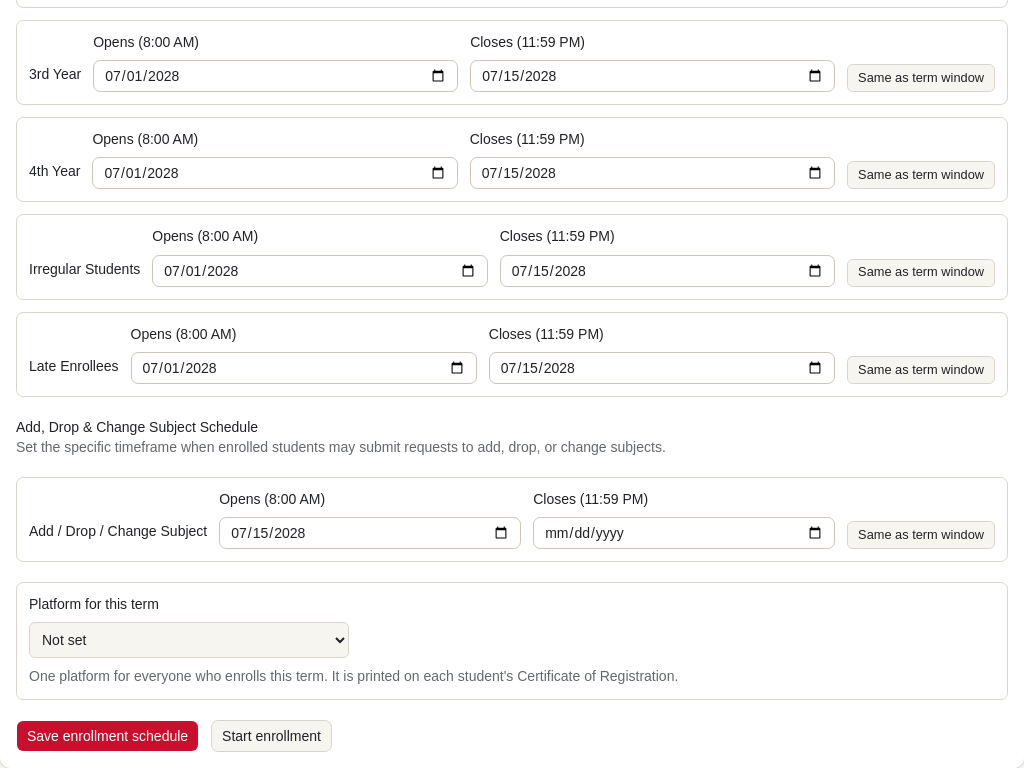
EnrollmentScheduleCard › asks for the term-wide dates instead of showing an API contract error when they are blank
(page scrolled)
Click the button "Save enrollment schedule" at (108, 736), box [16,720,199,752]
(page scrolled)
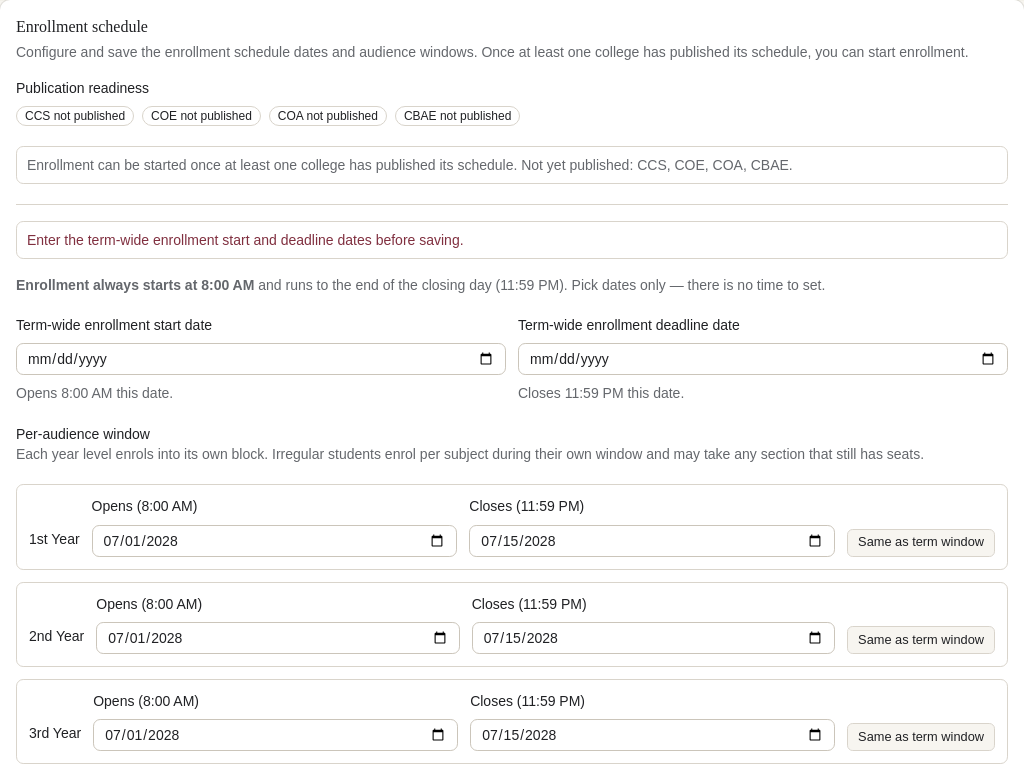
expect the message "Enter the term-wide enrollment start and deadline dates before saving." does not show "contract": met, box [16,221,1008,259]
expect the message "Enter the term-wide enrollment start and deadline dates before saving." is shown: met, box [16,221,1008,259]
